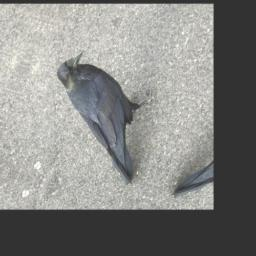Crow: (20, 46, 180, 186)
